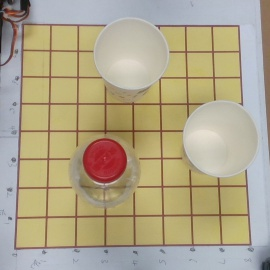bottle: (66, 133, 140, 215)
cup: (167, 100, 259, 191), (87, 16, 168, 111)
